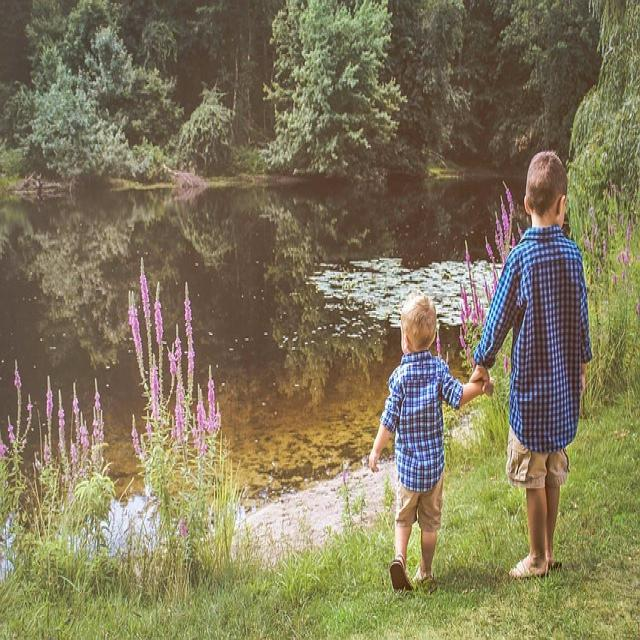child: (469, 150, 591, 582), (368, 294, 492, 587)
